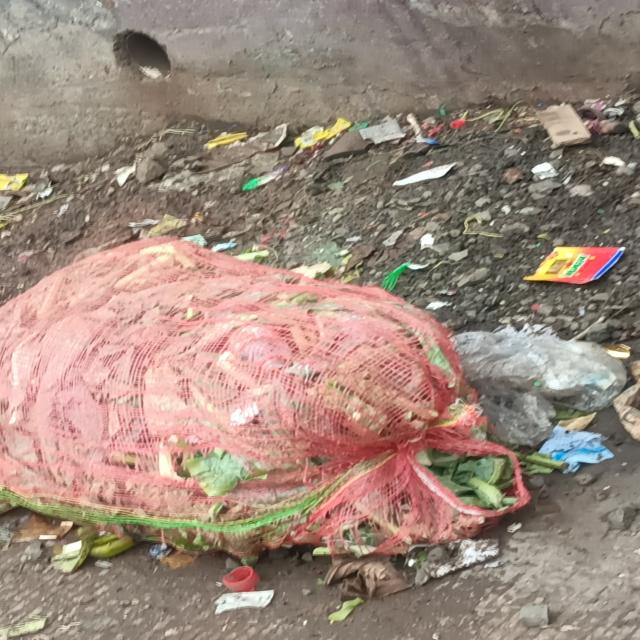garbage: (6, 225, 617, 602)
